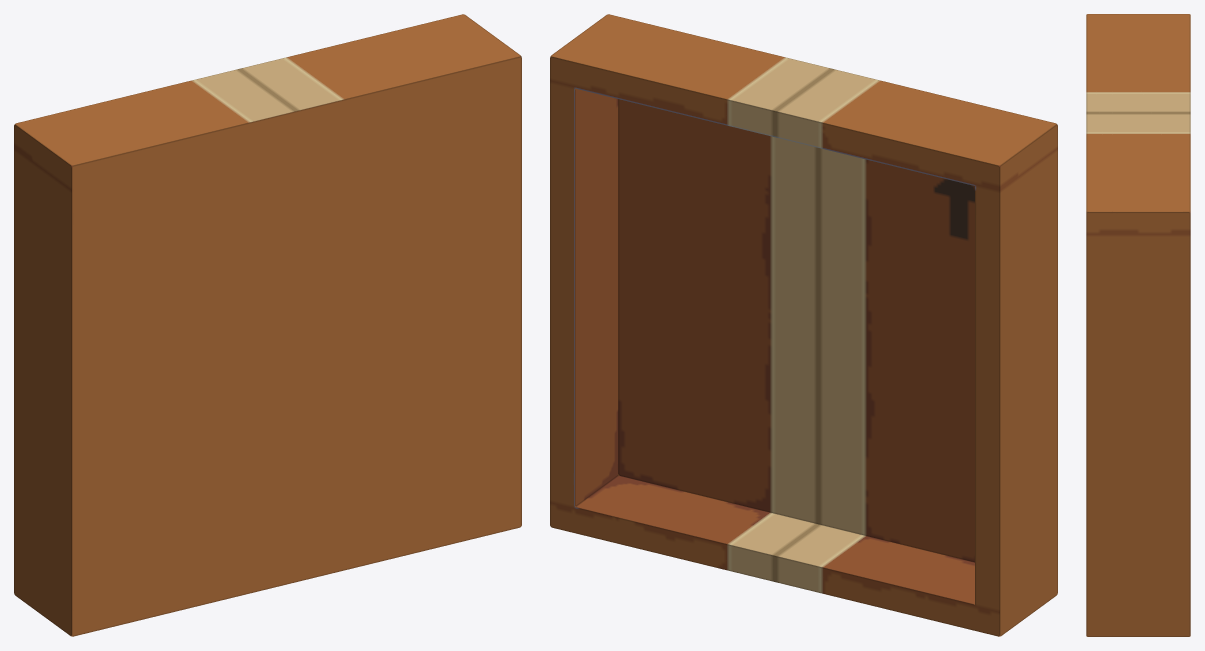
File: BoxFull.fbx
3 renders of one model, left to right at view 1: azimuth 30°, elevation 25°; view 2: azimuth 150°, elevation 25°; view 3: azimuth 270°, elevation 25°, orthographic. The views are drawn at different scales.
Visible parts, largest first — view 1: cuboid; view 2: cuboid; view 3: cuboid.
Boxes of the visible parts, bbox=[...] form: cuboid: bbox=[14, 14, 521, 636]; cuboid: bbox=[550, 14, 1057, 636]; cuboid: bbox=[1086, 14, 1190, 636].
Size of the model in its own units: 900 by 900 by 200.
1 material, 1 textured.
